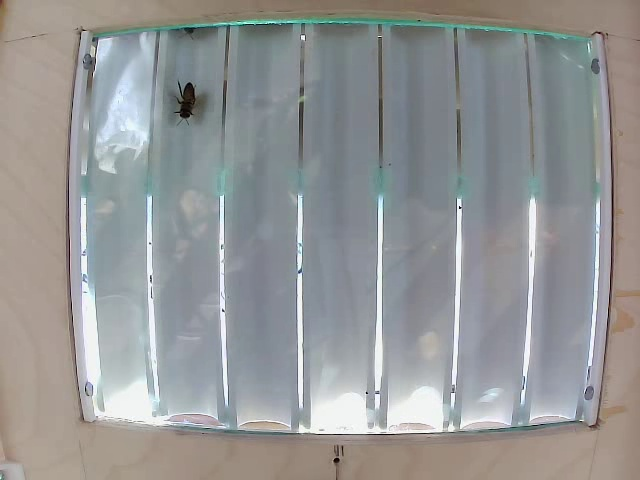bee: (172, 77, 200, 127)
